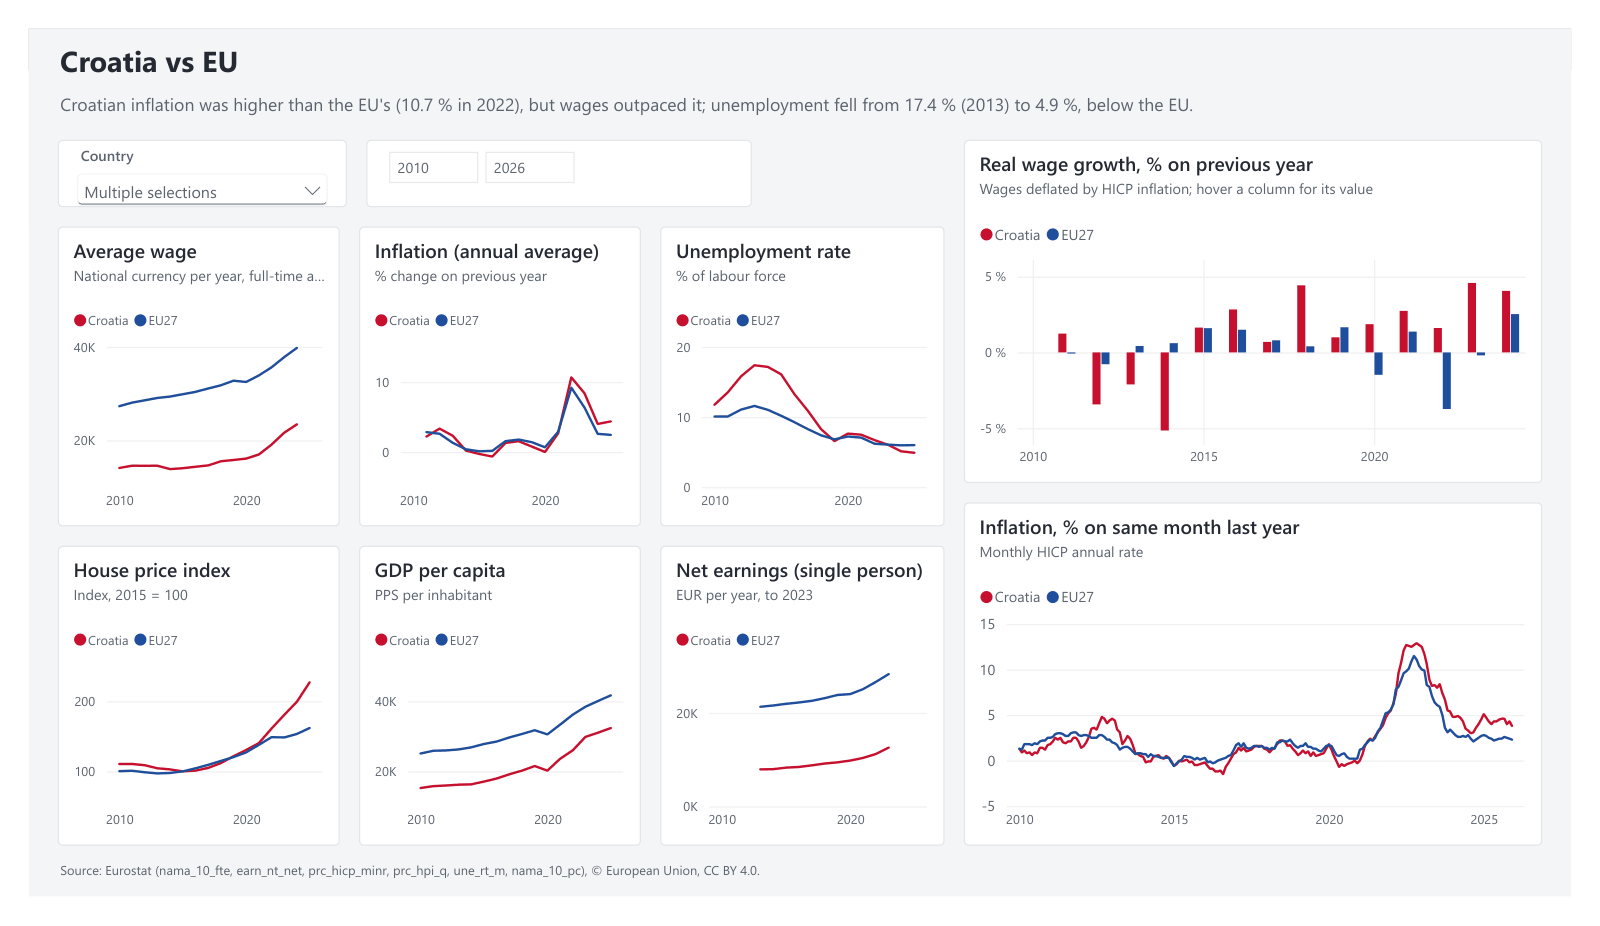

What the dashboard file says about the page in this screenshot:
{"tool":"powerbi","page":{"name":"Croatia vs EU","canvas":[1280,720],"ordinal":1},"visuals":[{"type":"textbox","box":[24,10,1232,40],"z":1000},{"type":"textbox","box":[24,52,1232,30],"z":2000},{"type":"slicer","fields":{"Values":["bi_dim_country.country_short_name"]},"box":[24,92,240,56],"z":3000},{"type":"slicer","fields":{"Values":["bi_dim_year.year"]},"box":[280,92,320,56],"z":4000},{"type":"lineChart","title":"Average wage","fields":{"Category":["bi_dim_year.year"],"Y":["_Measures.Annual Value"],"Series":["bi_dim_country.country_short_name"]},"box":[24,164,234,249],"z":5000},{"type":"lineChart","title":"Inflation (annual average)","fields":{"Category":["bi_dim_year.year"],"Y":["_Measures.Annual Value"],"Series":["bi_dim_country.country_short_name"]},"box":[274,164,234,249],"z":6000},{"type":"lineChart","title":"Unemployment rate","fields":{"Category":["bi_dim_year.year"],"Y":["_Measures.Annual Value"],"Series":["bi_dim_country.country_short_name"]},"box":[524,164,236,249],"z":7000},{"type":"lineChart","title":"House price index","fields":{"Category":["bi_dim_year.year"],"Y":["_Measures.Annual Value"],"Series":["bi_dim_country.country_short_name"]},"box":[24,429,234,249],"z":8000},{"type":"lineChart","title":"GDP per capita","fields":{"Category":["bi_dim_year.year"],"Y":["_Measures.Annual Value"],"Series":["bi_dim_country.country_short_name"]},"box":[274,429,234,249],"z":9000},{"type":"lineChart","title":"Net earnings (single person)","fields":{"Category":["bi_dim_year.year"],"Series":["bi_dim_country.country_short_name"],"Y":["_Measures.Annual Value"]},"box":[524,429,236,249],"z":10000},{"type":"clusteredColumnChart","title":"Real wage growth, % on previous year","fields":{"Category":["bi_dim_year.year"],"Y":["_Measures.Real Wage Growth %"],"Series":["bi_dim_country.country_short_name"]},"box":[776,92,480,285],"z":11000},{"type":"lineChart","title":"Inflation, % on same month last year","fields":{"Category":["v_observations.period_date"],"Y":["_Measures.Period Value"],"Series":["bi_dim_country.country_short_name"]},"box":[776,393,480,285],"z":12000},{"type":"textbox","box":[24,688,1232,24],"z":13000}]}

Visuals, with their boxes in screenshot pixels (x1, y1, x2, y2), scaled from the page's 1280x720 canvas onto the 1600x926 screenshot:
textbox: [x1=30, y1=13, x2=1570, y2=64]
textbox: [x1=30, y1=67, x2=1570, y2=105]
slicer - bi_dim_country.country_short_name: [x1=30, y1=118, x2=330, y2=190]
slicer - bi_dim_year.year: [x1=350, y1=118, x2=750, y2=190]
"Average wage" lineChart: [x1=30, y1=211, x2=322, y2=531]
"Inflation (annual average)" lineChart: [x1=342, y1=211, x2=635, y2=531]
"Unemployment rate" lineChart: [x1=655, y1=211, x2=950, y2=531]
"House price index" lineChart: [x1=30, y1=552, x2=322, y2=872]
"GDP per capita" lineChart: [x1=342, y1=552, x2=635, y2=872]
"Net earnings (single person)" lineChart: [x1=655, y1=552, x2=950, y2=872]
"Real wage growth, % on previous year" clusteredColumnChart: [x1=970, y1=118, x2=1570, y2=485]
"Inflation, % on same month last year" lineChart: [x1=970, y1=505, x2=1570, y2=872]
textbox: [x1=30, y1=885, x2=1570, y2=916]
